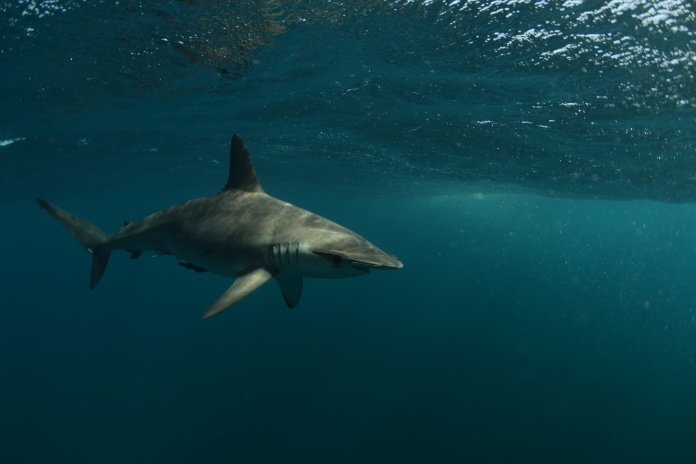Hammer: (33, 126, 420, 342)
